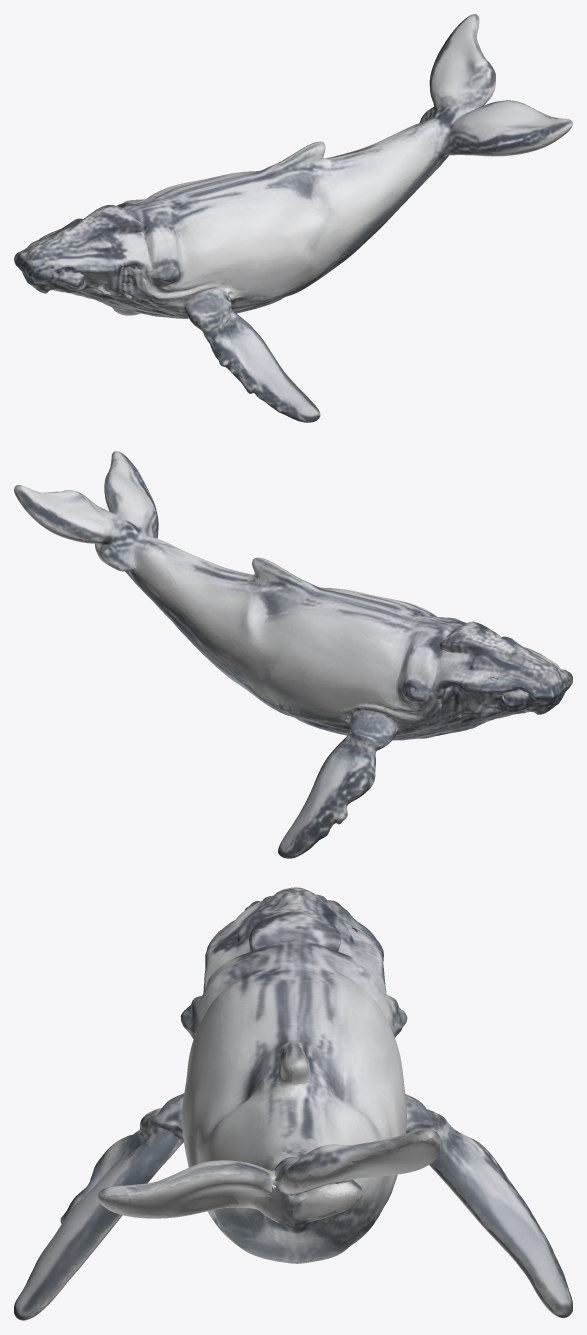
File: glass-whale.glb
3 views of the same model, one above another, from view 1: azimuth 30°, elevation 25°; view 2: azimuth 150°, elevation 25°; view 3: azimuth 270°, elevation 25° (orthographic). The views are drawn at different scales.
Visible parts, largest first — view 1: world; view 2: world; view 3: world.
Boxes of the visible parts, x1=… form: world: x1=14, y1=14, x2=572, y2=422; world: x1=14, y1=451, x2=572, y2=858; world: x1=14, y1=887, x2=572, y2=1320.
Bounding box in the file's own units: 0.32 × 0.1594 × 0.1867.
1 material, 1 textured.
